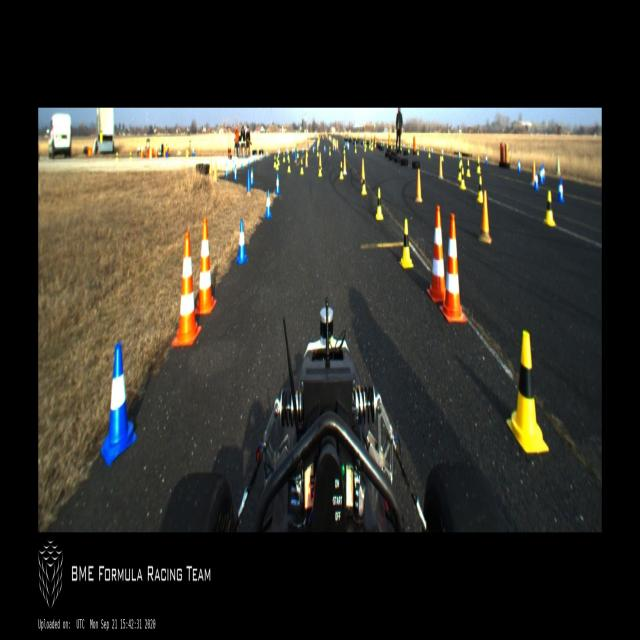blue_cone: (101, 342, 137, 467), (236, 220, 248, 265), (265, 190, 272, 218), (557, 177, 565, 201), (533, 169, 539, 191), (538, 166, 544, 186), (275, 172, 280, 194), (250, 167, 254, 185), (234, 164, 238, 180), (542, 166, 546, 182), (225, 162, 228, 177), (518, 159, 521, 173), (240, 156, 243, 169), (485, 154, 488, 165), (232, 158, 234, 172), (248, 154, 250, 166), (254, 152, 256, 163), (266, 148, 268, 158), (260, 151, 262, 160)
large_orange_cone: (172, 232, 202, 346), (439, 213, 467, 324), (194, 218, 217, 314), (426, 205, 446, 304)
unknown_cone: (478, 190, 492, 245), (414, 170, 422, 202), (360, 158, 366, 184), (438, 156, 443, 179), (556, 156, 561, 177), (531, 161, 535, 185), (343, 153, 347, 174), (214, 161, 218, 181), (247, 168, 250, 192), (318, 152, 322, 170), (305, 150, 308, 168), (209, 159, 212, 176), (294, 148, 297, 163)
yellow_cone: (506, 330, 550, 452), (399, 218, 414, 268), (544, 190, 556, 225), (376, 188, 384, 220), (477, 175, 483, 203), (460, 168, 466, 189), (362, 172, 367, 195), (339, 162, 344, 179), (466, 160, 471, 177), (476, 156, 481, 173), (458, 162, 462, 181), (300, 159, 304, 175), (318, 161, 322, 177), (275, 155, 279, 171), (459, 152, 463, 166), (287, 160, 291, 172), (273, 154, 276, 168), (277, 154, 280, 166), (441, 152, 444, 162), (428, 148, 431, 158), (287, 151, 290, 160), (283, 151, 285, 162), (329, 146, 331, 156), (344, 144, 346, 154), (417, 146, 419, 156), (297, 149, 299, 158), (317, 147, 319, 156), (354, 145, 356, 153)
